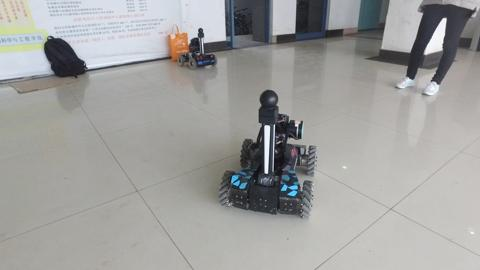bag: (42, 33, 90, 80), (167, 21, 188, 63)
chariot: (218, 87, 317, 221), (176, 25, 219, 71)
